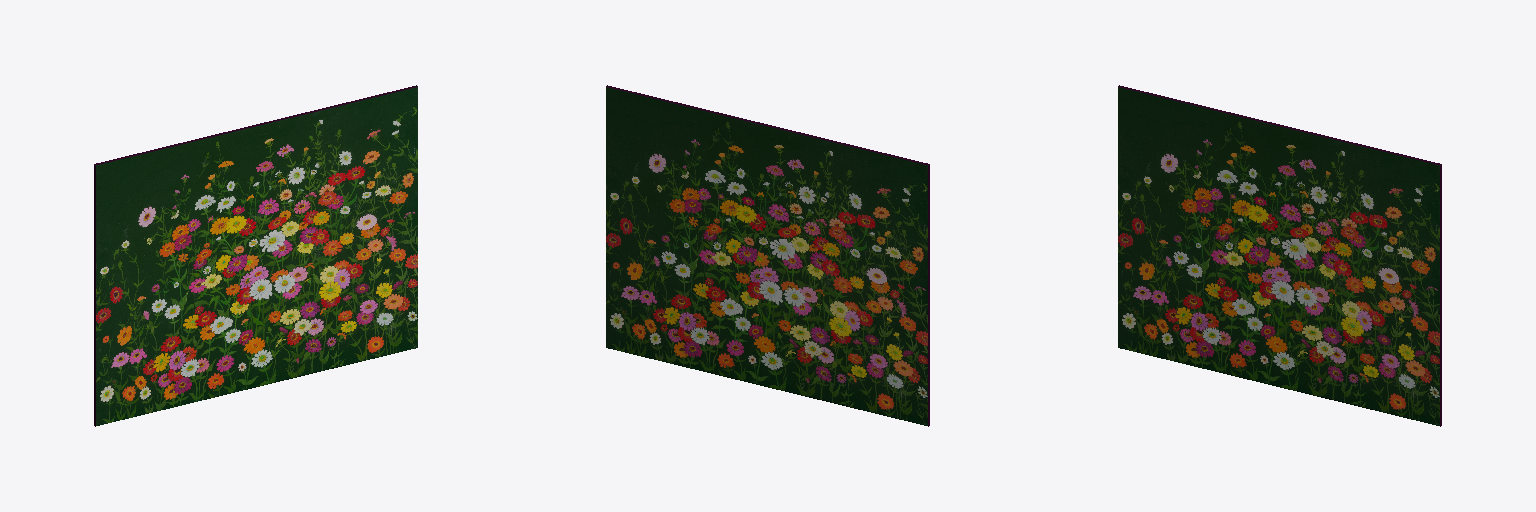
3 renders of one model, left to right at view 1: azimuth 30°, elevation 25°; view 2: azimuth 150°, elevation 25°; view 3: azimuth 330°, elevation 25°, orthographic.
Visible parts, largest first — view 1: Mesh1 Model; view 2: Mesh1 Model; view 3: Mesh1 Model.
Boxes of the visible parts, x1=… form: Mesh1 Model: x1=94, y1=85, x2=417, y2=426; Mesh1 Model: x1=606, y1=85, x2=929, y2=426; Mesh1 Model: x1=1118, y1=85, x2=1441, y2=426.
Bounding box in the file's own units: 1.98 × 1.53 × 0.02.
Materials: 2 (1 with a texture image).